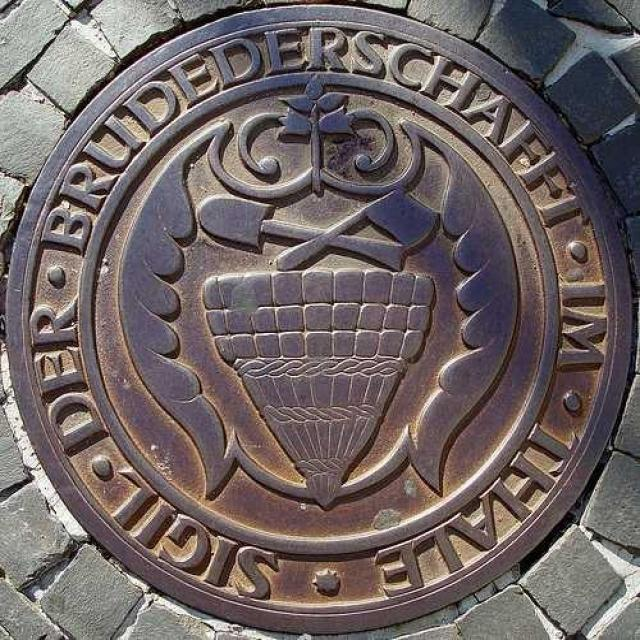manhole: (7, 6, 633, 632)
